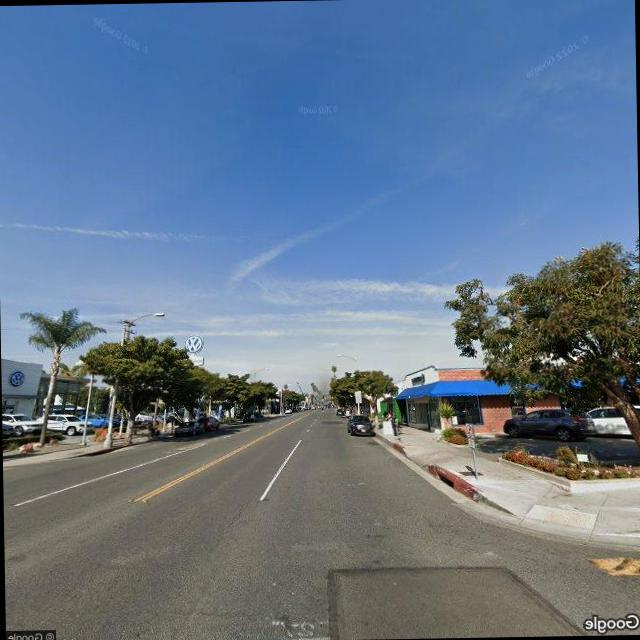pothole: (224, 492, 253, 534)
